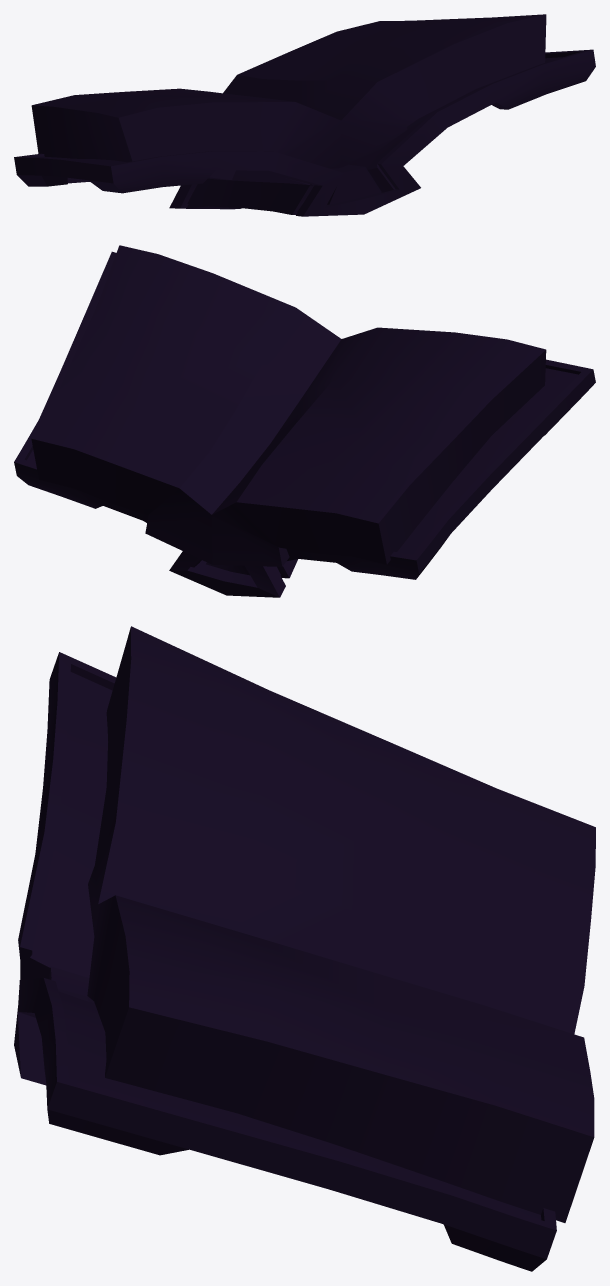
Rendered from priest_animation_book.fbx.
3 views of the same model, one above another, from view 1: azimuth 30°, elevation 25°; view 2: azimuth 150°, elevation 25°; view 3: azimuth 270°, elevation 25° (orthographic). The views are drawn at different scales.
Visible parts, largest first — view 1: book; view 2: book; view 3: book.
Boxes of the visible parts, bbox=[...] form: book: bbox=[14, 14, 595, 216]; book: bbox=[14, 245, 595, 597]; book: bbox=[14, 626, 595, 1271].
Bounding box in the file's own units: 120 × 52.58 × 68.66.
